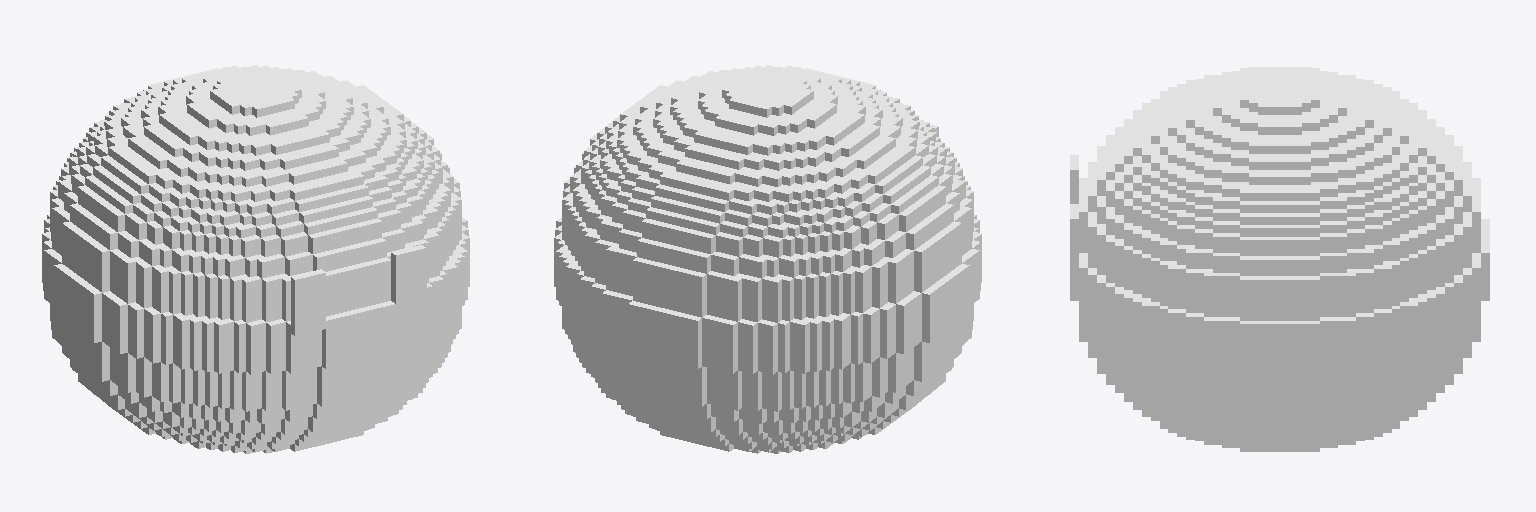
Rendered from pluto2.obj.
The picture shows the model from 3 angles: view 1: azimuth 30°, elevation 25°; view 2: azimuth 150°, elevation 25°; view 3: azimuth 270°, elevation 25°; orthographic projection.
Parts seen in each view (by area): view 1: pluto2; view 2: pluto2; view 3: pluto2.
Boxes of the visible parts, x1=… form: pluto2: x1=42, y1=65, x2=469, y2=453; pluto2: x1=554, y1=65, x2=981, y2=453; pluto2: x1=1070, y1=67, x2=1489, y2=451.
Size of the model in its own units: 47 by 41 by 47.